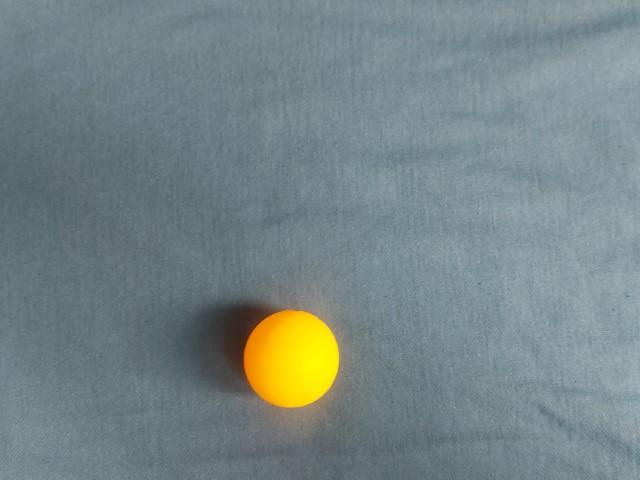oball: (289, 64, 405, 179)
